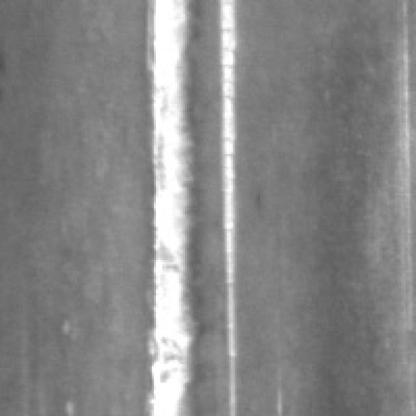scratches: (145, 0, 202, 412), (221, 0, 244, 412)
